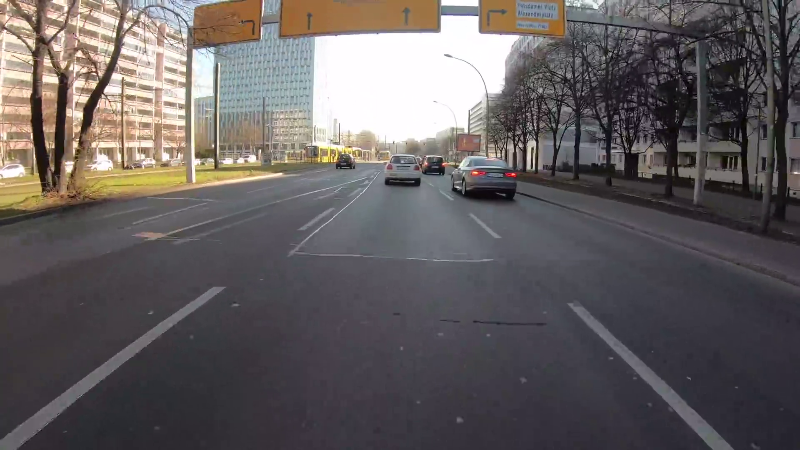Plate: (485, 170, 505, 179), (394, 164, 412, 171), (430, 164, 439, 168)
